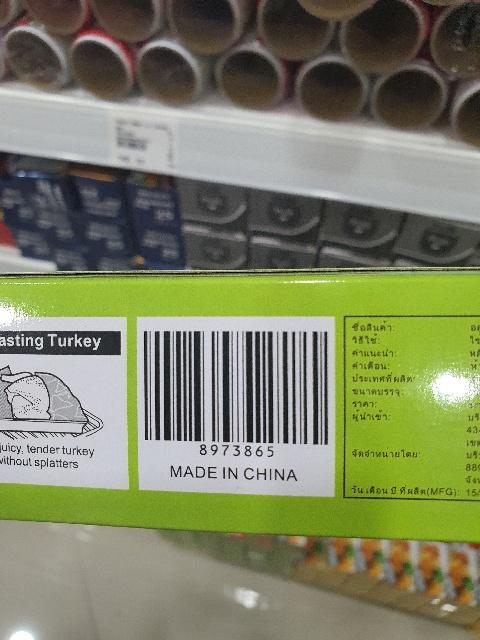Barcode: (137, 324, 335, 459)
